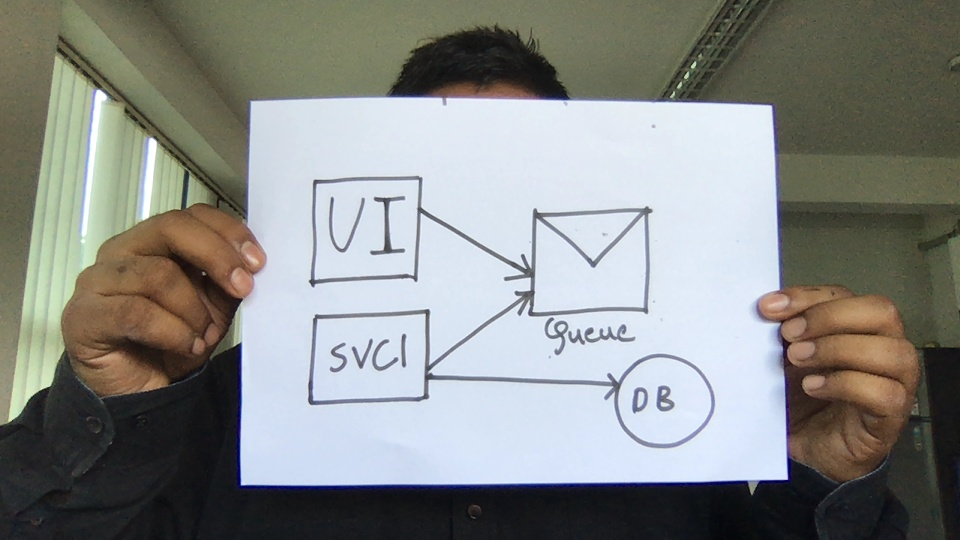db: (610, 347, 717, 456)
ec2: (303, 306, 437, 415)
sns: (523, 205, 662, 337)
ui: (303, 171, 430, 292)
